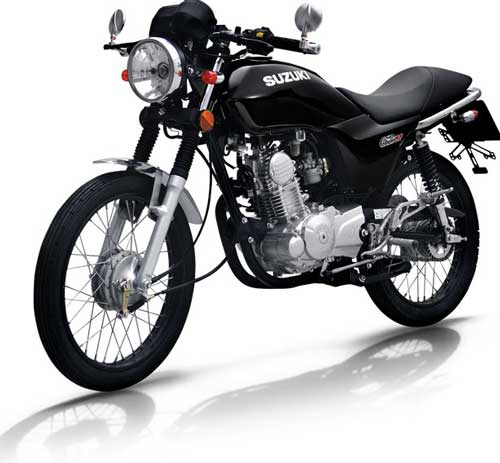motorcycle: (28, 4, 495, 395)
